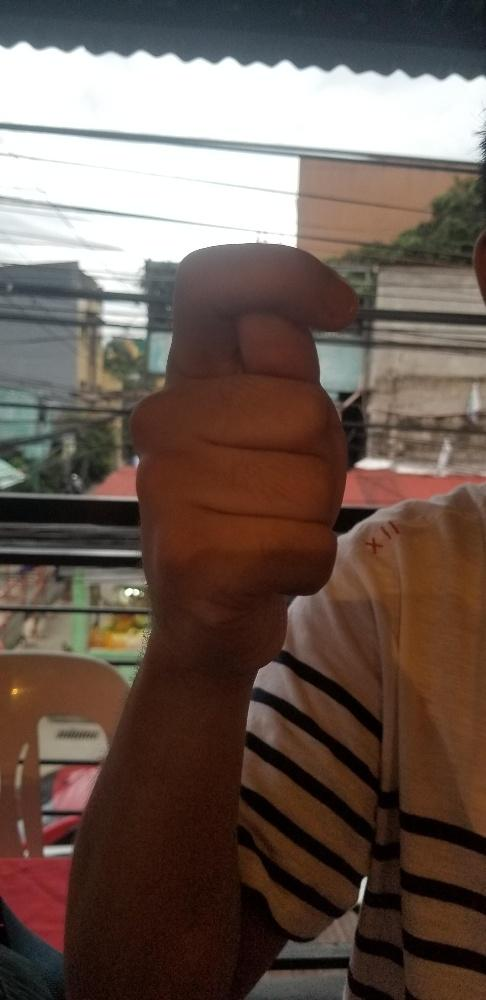t: (130, 241, 361, 671)
